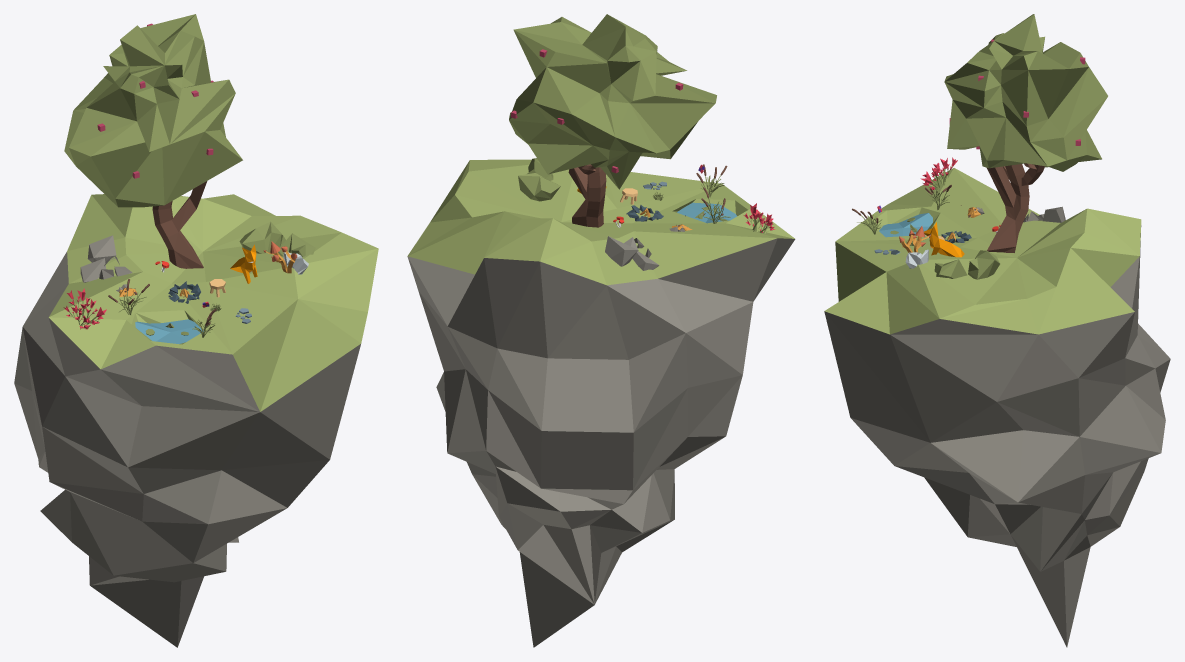
The model's file is island-fox.glb.
The picture shows the model from 3 angles, left to right: view 1: azimuth 30°, elevation 25°; view 2: azimuth 150°, elevation 25°; view 3: azimuth 270°, elevation 25°; orthographic projection. The views are drawn at different scales.
Parts seen in each view (by area): view 1: group89880989, group66116416, group1427171881, group950227613, group451614104, group1036978087, group1028679329; view 2: group89880989, group66116416, group1427171881, group451614104, group950227613, group1036978087; view 3: group89880989, group66116416, group1427171881, group950227613, group451614104, group1028679329, group2100907415.
Part boxes in pixels (bbox=[...]): group89880989: bbox=[14, 194, 378, 647]; group66116416: bbox=[64, 14, 242, 207]; group1427171881: bbox=[152, 181, 207, 268]; group950227613: bbox=[135, 319, 203, 343]; group451614104: bbox=[239, 221, 285, 253]; group1036978087: bbox=[87, 235, 116, 262]; group1028679329: bbox=[230, 244, 257, 283]; group89880989: bbox=[407, 159, 795, 647]; group66116416: bbox=[509, 14, 716, 189]; group1427171881: bbox=[568, 167, 606, 227]; group451614104: bbox=[518, 169, 560, 201]; group950227613: bbox=[677, 202, 736, 223]; group1036978087: bbox=[605, 236, 637, 266]; group89880989: bbox=[824, 168, 1170, 647]; group66116416: bbox=[944, 14, 1107, 171]; group1427171881: bbox=[987, 164, 1029, 252]; group950227613: bbox=[879, 213, 932, 237]; group451614104: bbox=[968, 250, 999, 279]; group1028679329: bbox=[924, 222, 964, 257]; group2100907415: bbox=[901, 234, 929, 268].
Bounding box in the file's own units: 3.55 × 6.83 × 3.53.
